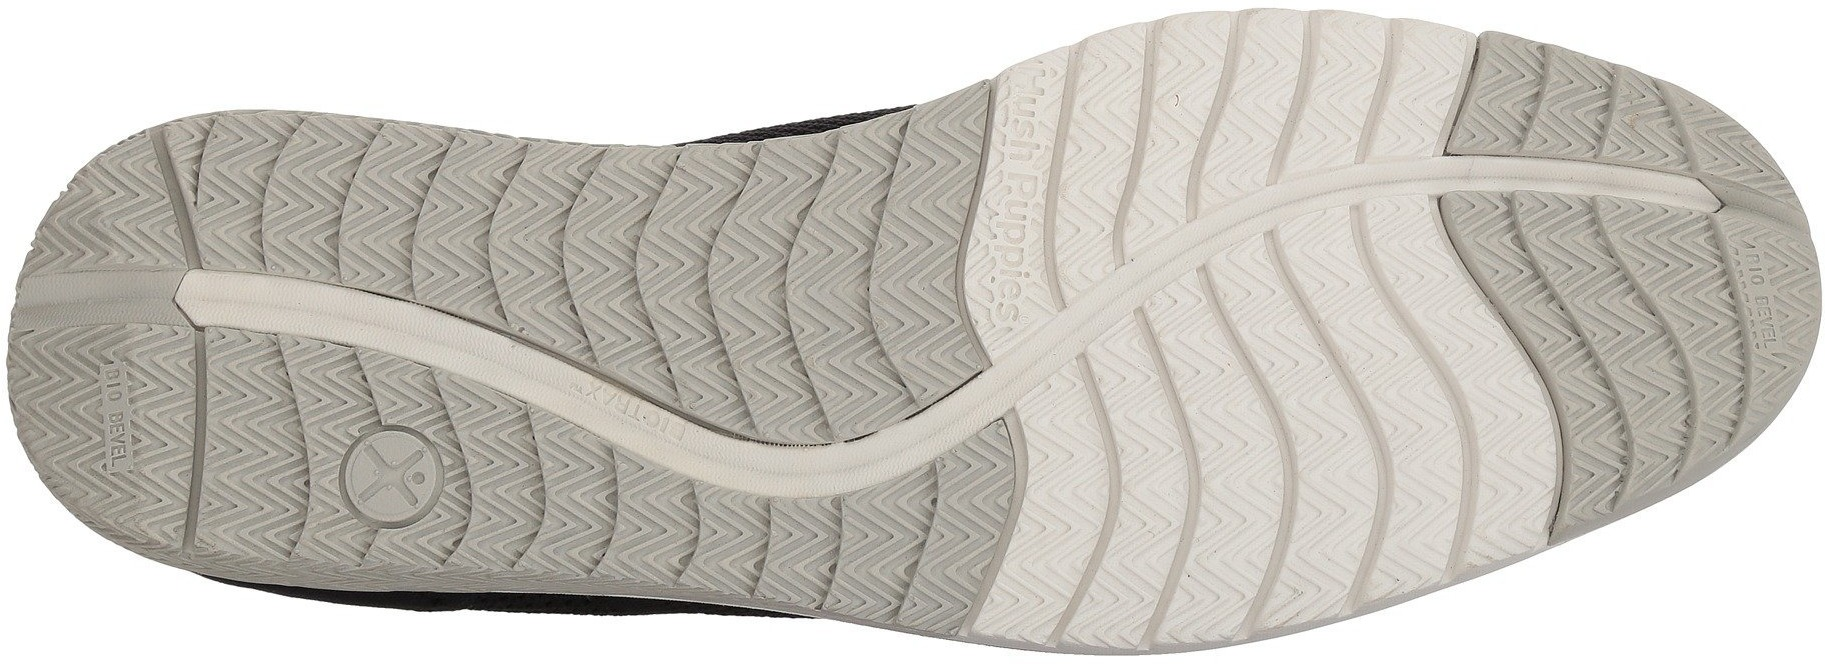chevron: (1162, 287, 1484, 582), (606, 137, 862, 377), (92, 186, 331, 425), (933, 460, 1162, 641), (411, 130, 588, 304), (310, 408, 473, 560), (1155, 17, 1309, 174), (1574, 309, 1738, 454), (571, 373, 693, 482), (966, 163, 1074, 253), (977, 85, 1082, 168), (959, 240, 1064, 322)
circle: (310, 408, 473, 560)
line: (92, 186, 331, 425), (571, 373, 693, 482)
ribbon: (1357, 78, 1538, 247), (730, 390, 881, 541), (1600, 137, 1747, 281)
star: (310, 408, 473, 560)
text: (92, 186, 331, 425), (571, 373, 693, 482), (966, 163, 1074, 253), (977, 85, 1082, 168), (959, 240, 1064, 322)
triangle: (310, 408, 473, 560)
